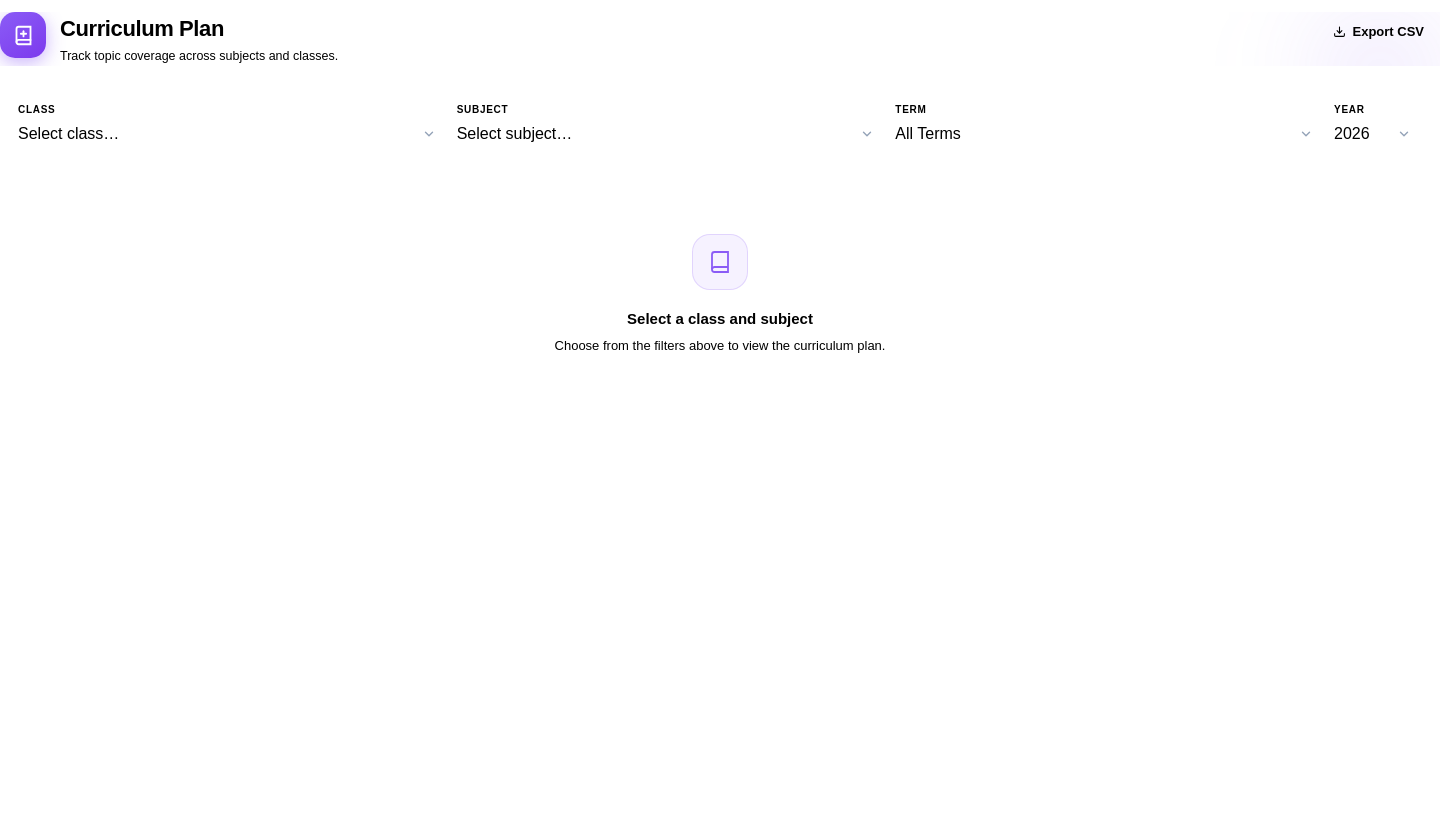
Scenario: DosCurriculumPage — Covered By column › renders the resolved coveredByName from the hook
Select "S.1" in the 1st dropdown: (232, 134) [18,122,447,146]
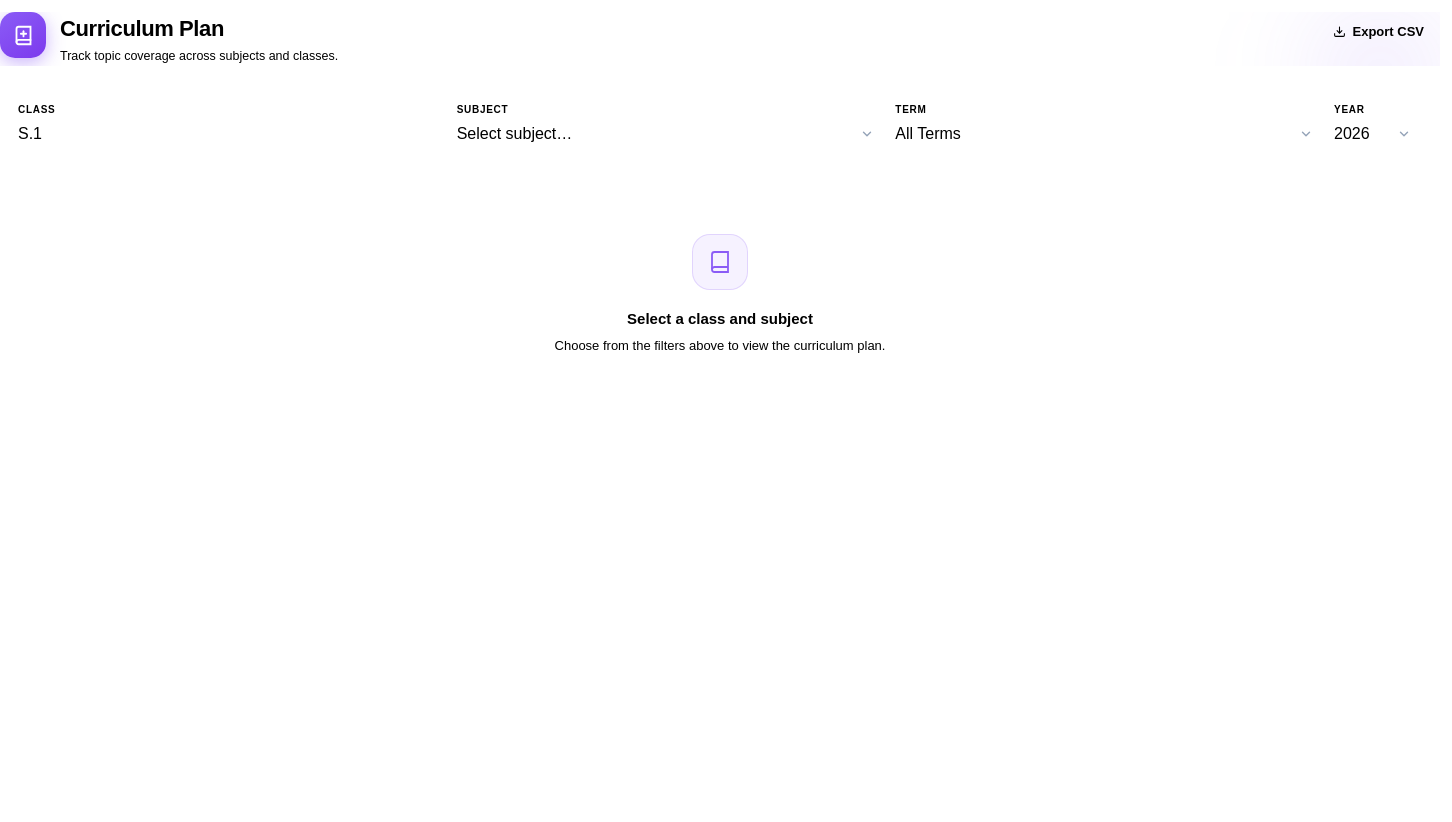
Select "Math" in the 2nd dropdown: (671, 134) [457,122,885,146]
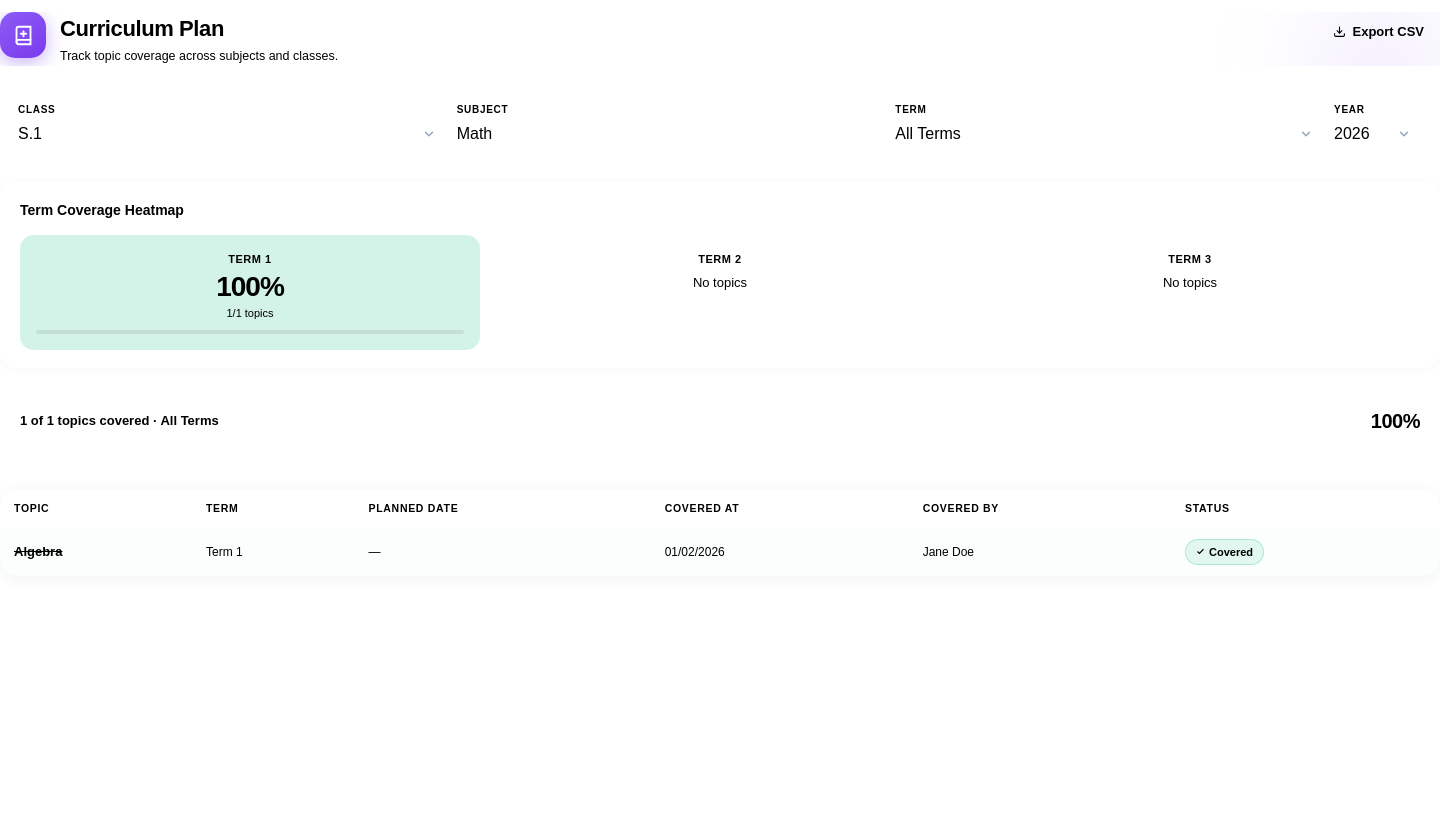
Check: the text "Jane Doe" is shown, box [909,528,1171,576]
